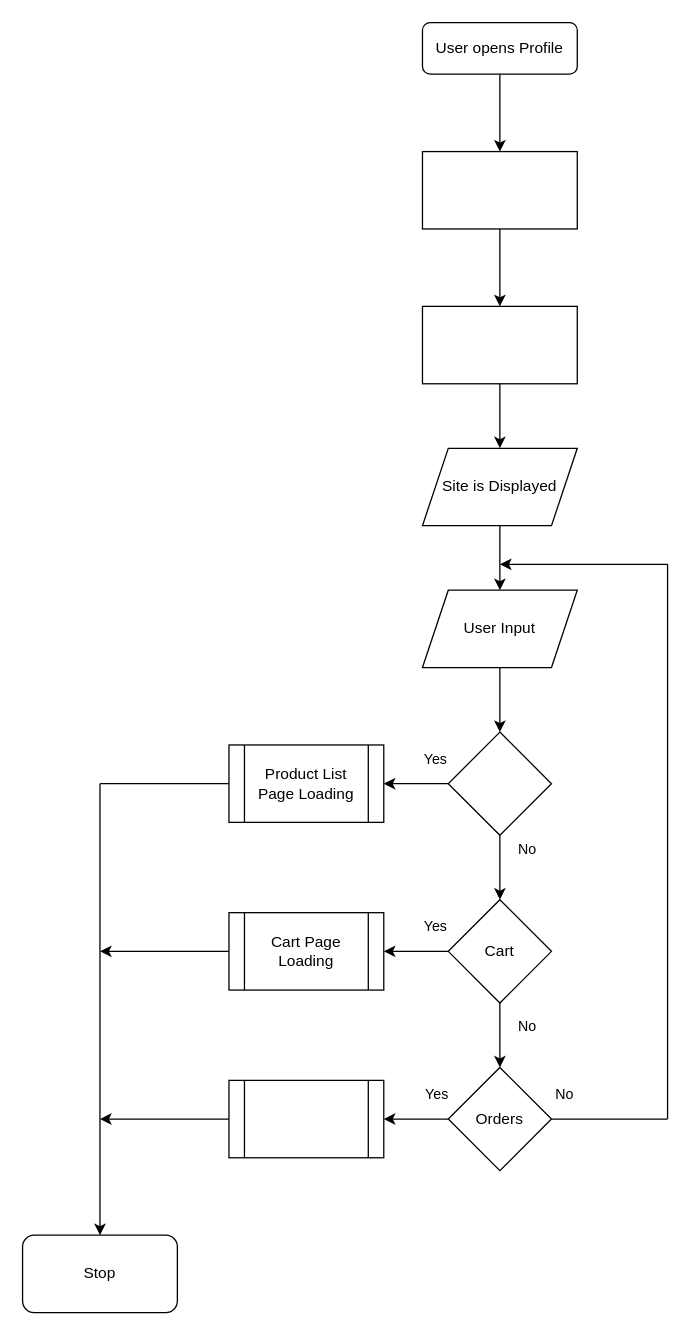
This 700x1335 diagram has some shape labels left out. The shapes that lost their labels are listed below. From the top down, each one's box as (x1, y1, x2, y2) in pixels, then its label:
(421, 150, 577, 229): Loading Site structure
(421, 305, 577, 384): Loading User Data and writing them into their Elements
(447, 731, 551, 835): Back
(228, 1079, 384, 1158): User's Orders Page Loading
